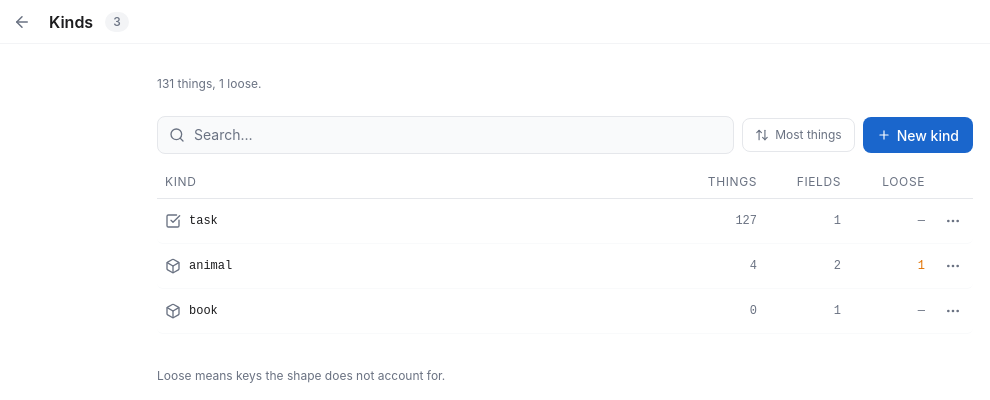
Scenario: removing a kind from the list › offers renaming and removing from the same row
The width and height of the screenshot is (990, 400).
Click the 2nd button named "More": (953, 266) [941,254,965,278]
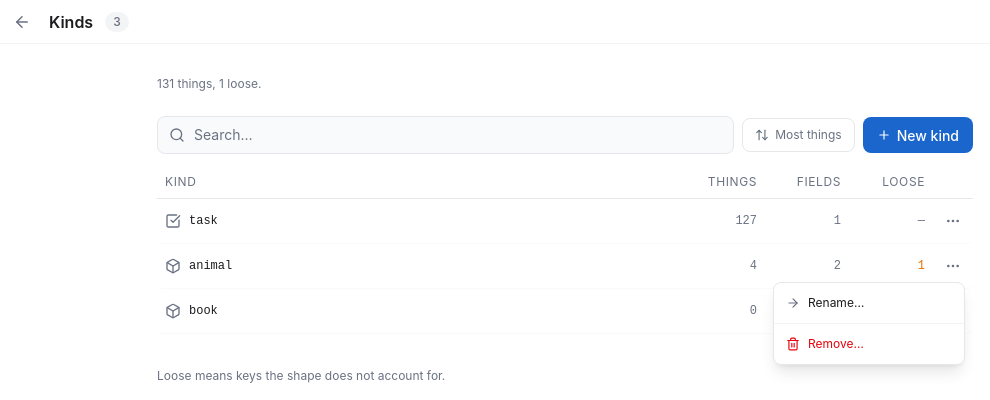
Now the text "Rename…" is shown, box [774,287,964,319]
Now the text "Remove…" is shown, box [774,328,964,360]
